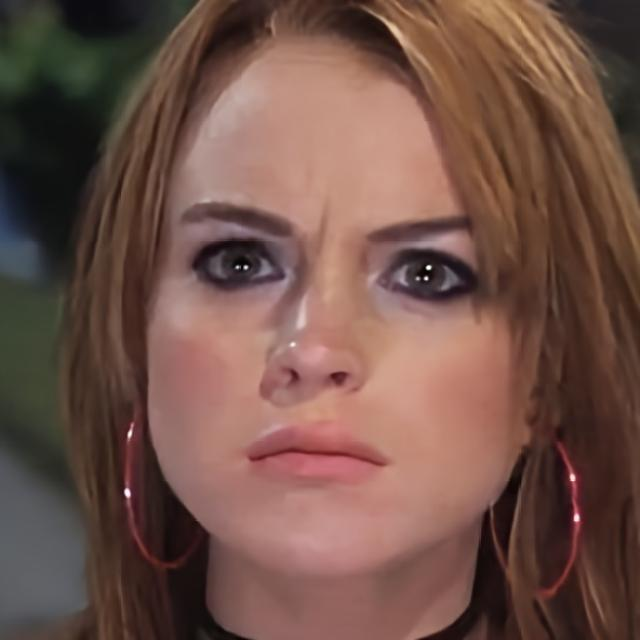anger: (145, 40, 533, 578)
